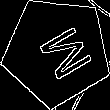M_SW: (24, 19, 89, 84)
